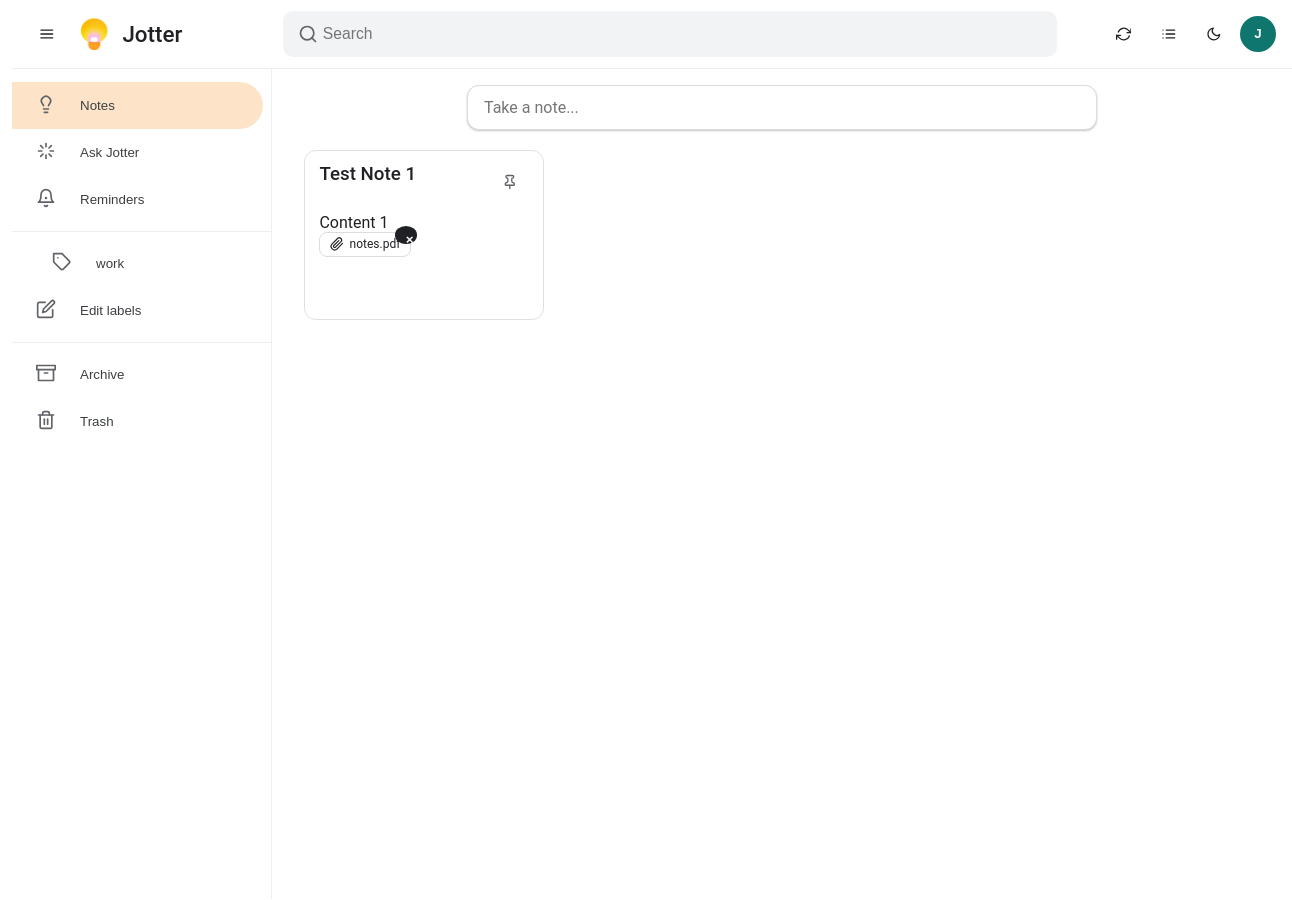
Test case: DashboardPage › removes a file attachment
Expected: the link "notes.pdf" is shown, 319,232 -> 411,257
Click the button named "Remove attachment notes.pdf" at (406, 234), box 395,226 -> 417,244
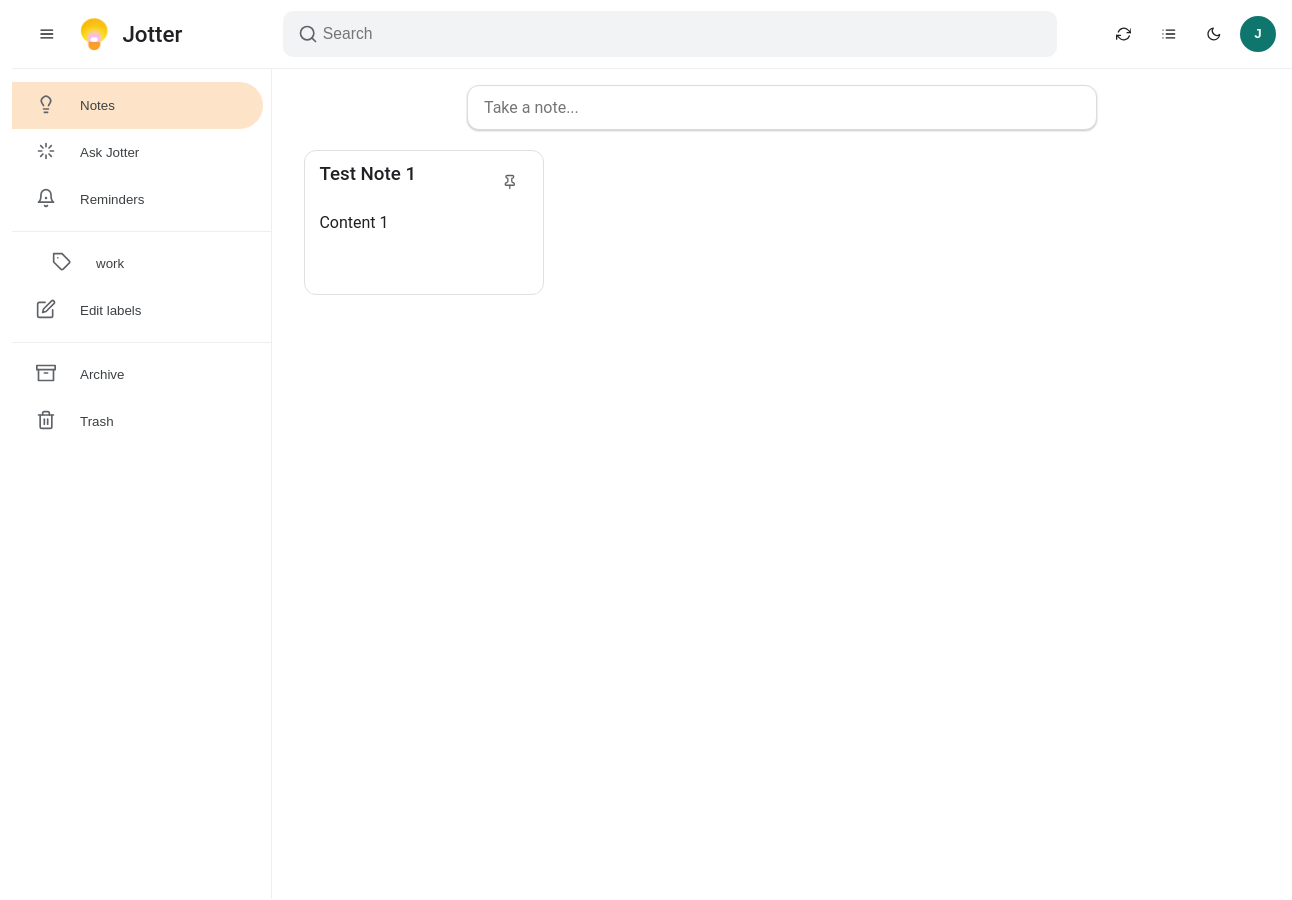
Expected: the link "notes.pdf" is gone
